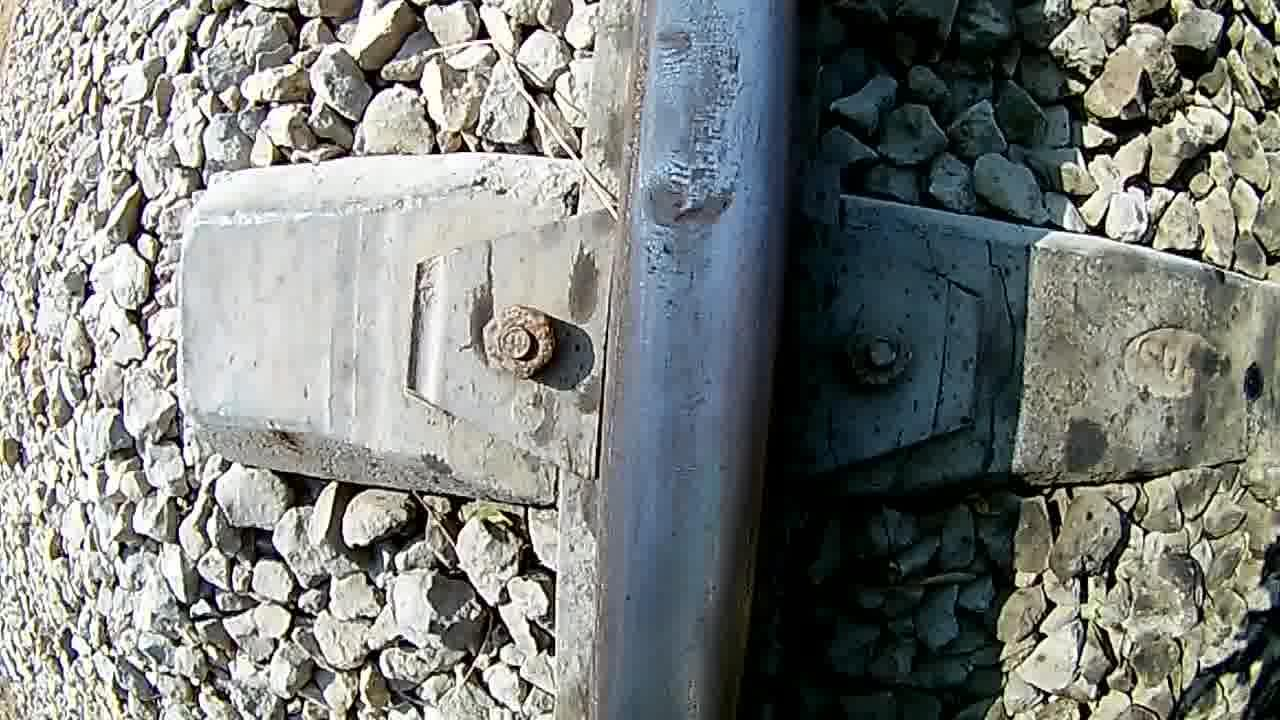crack: (610, 0, 797, 720)
